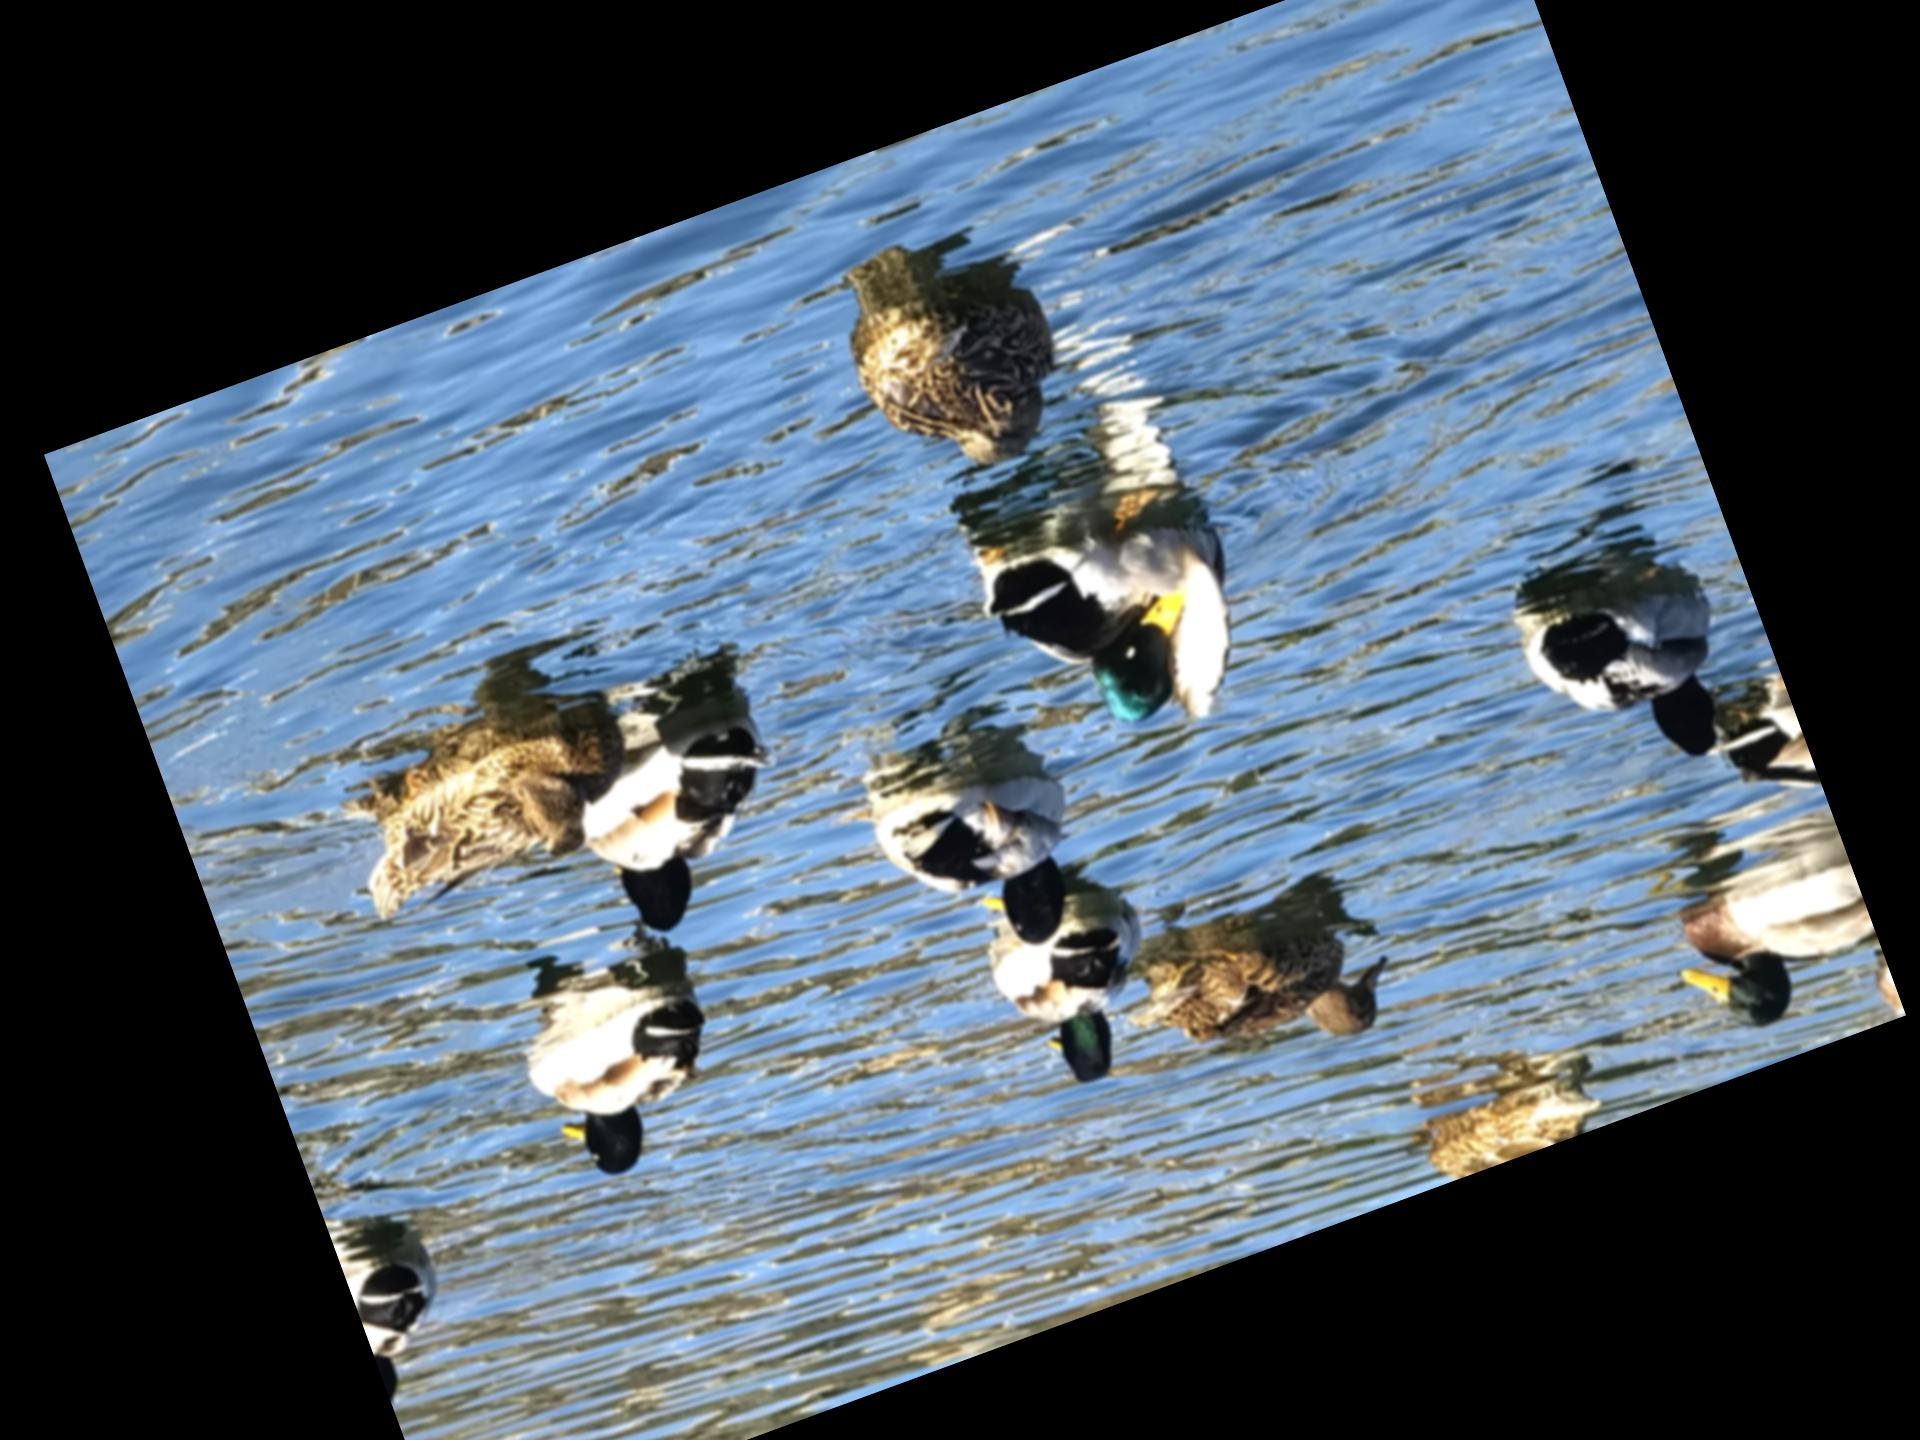duck: (946, 461, 1281, 793), (314, 684, 670, 935), (810, 247, 1113, 508), (1482, 534, 1757, 821), (491, 930, 762, 1213), (841, 718, 1116, 994), (535, 691, 819, 956), (937, 843, 1197, 1119), (1119, 877, 1411, 1115), (1627, 836, 1893, 1063), (324, 1187, 484, 1414), (1389, 1051, 1604, 1192)
